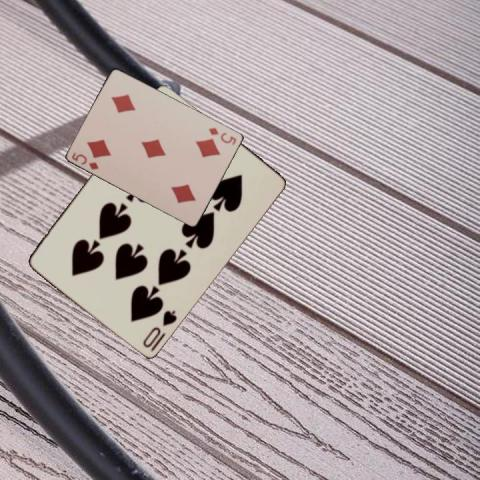10s: (139, 306, 179, 348)
5d: (206, 125, 238, 146), (69, 150, 100, 171)
